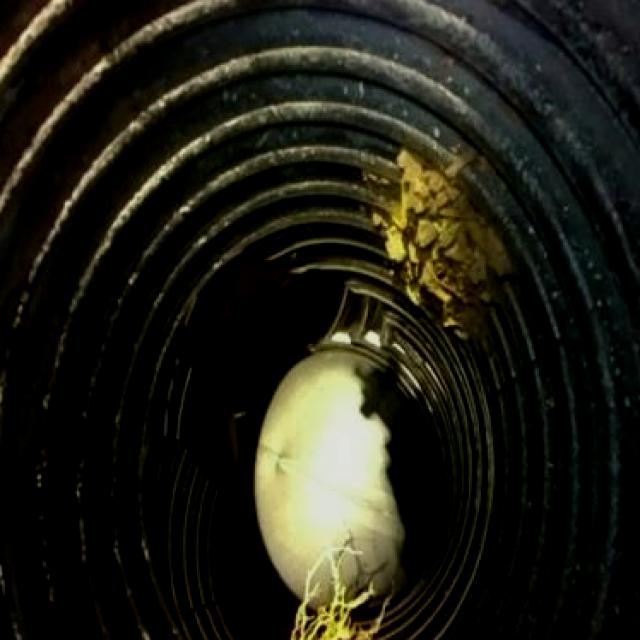dirt: (389, 152, 494, 333)
root: (272, 556, 392, 640)
